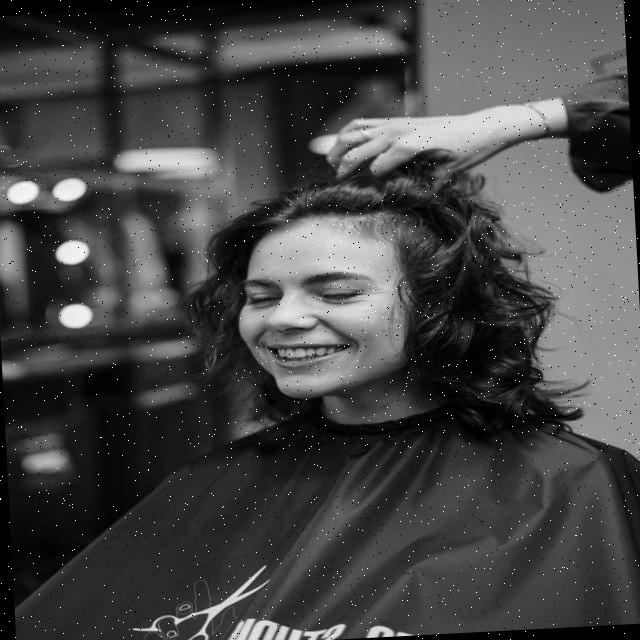Happiness: (228, 219, 410, 404)
